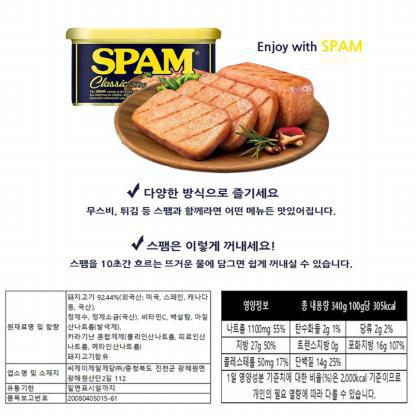spam: (70, 24, 214, 106)
